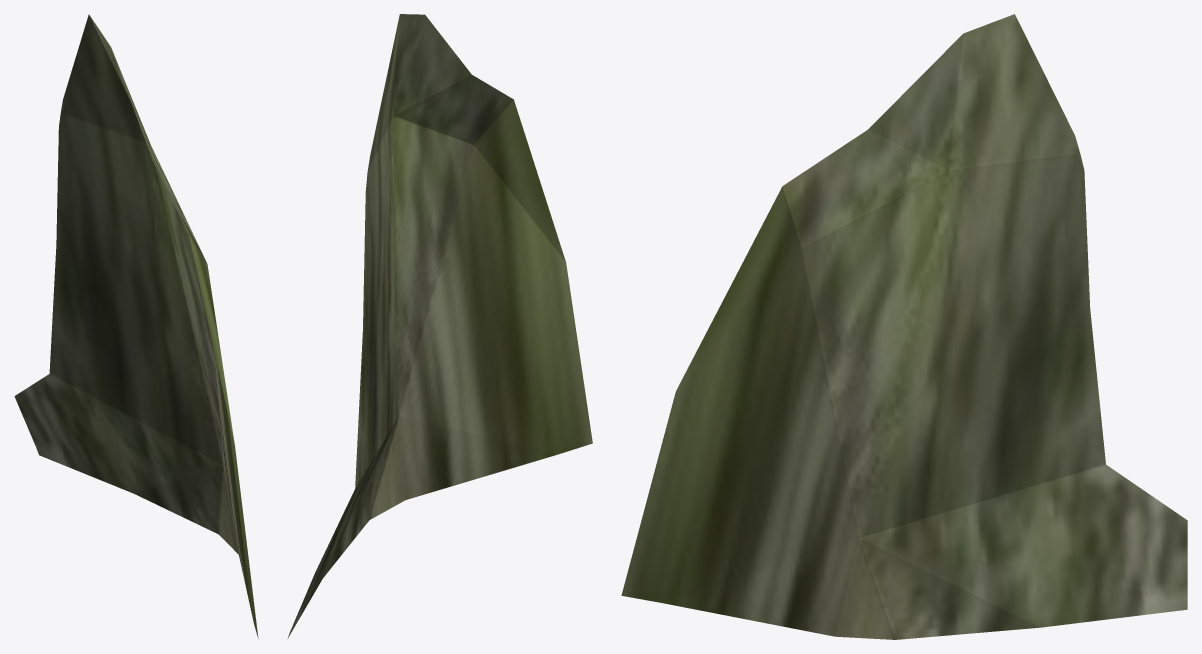
3 renders of one model, left to right at view 1: azimuth 30°, elevation 25°; view 2: azimuth 150°, elevation 25°; view 3: azimuth 270°, elevation 25°, orthographic. The views are drawn at different scales.
Bounding box in the file's own units: 0.2416 × 1.48 × 1.31.
1 material, 1 textured.
